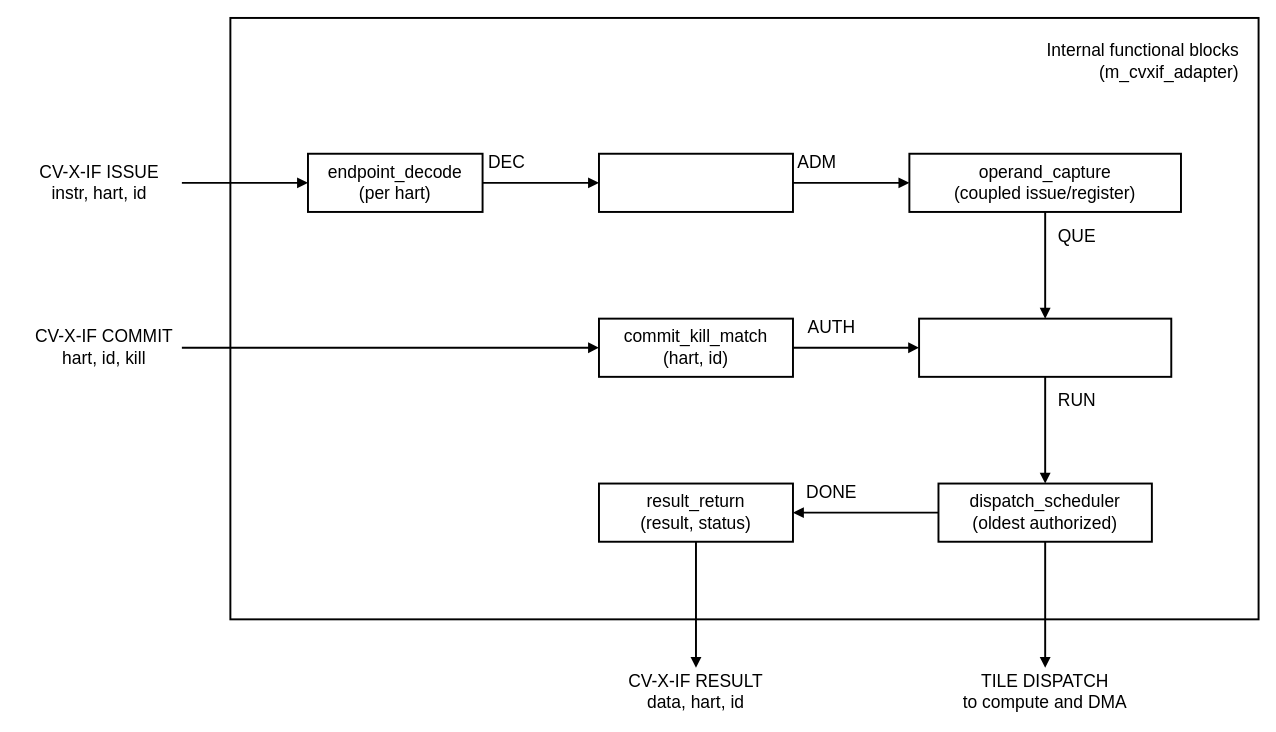
The diagram is 1276 pixels wide and 732 high, and some of its shapes have lost their labels. Each missing label, with the centre of its shape:
"admission_arbiter (round robin)" belongs at (695,182).
"command_queue (contexts, scoreboard)" belongs at (1045,347).
